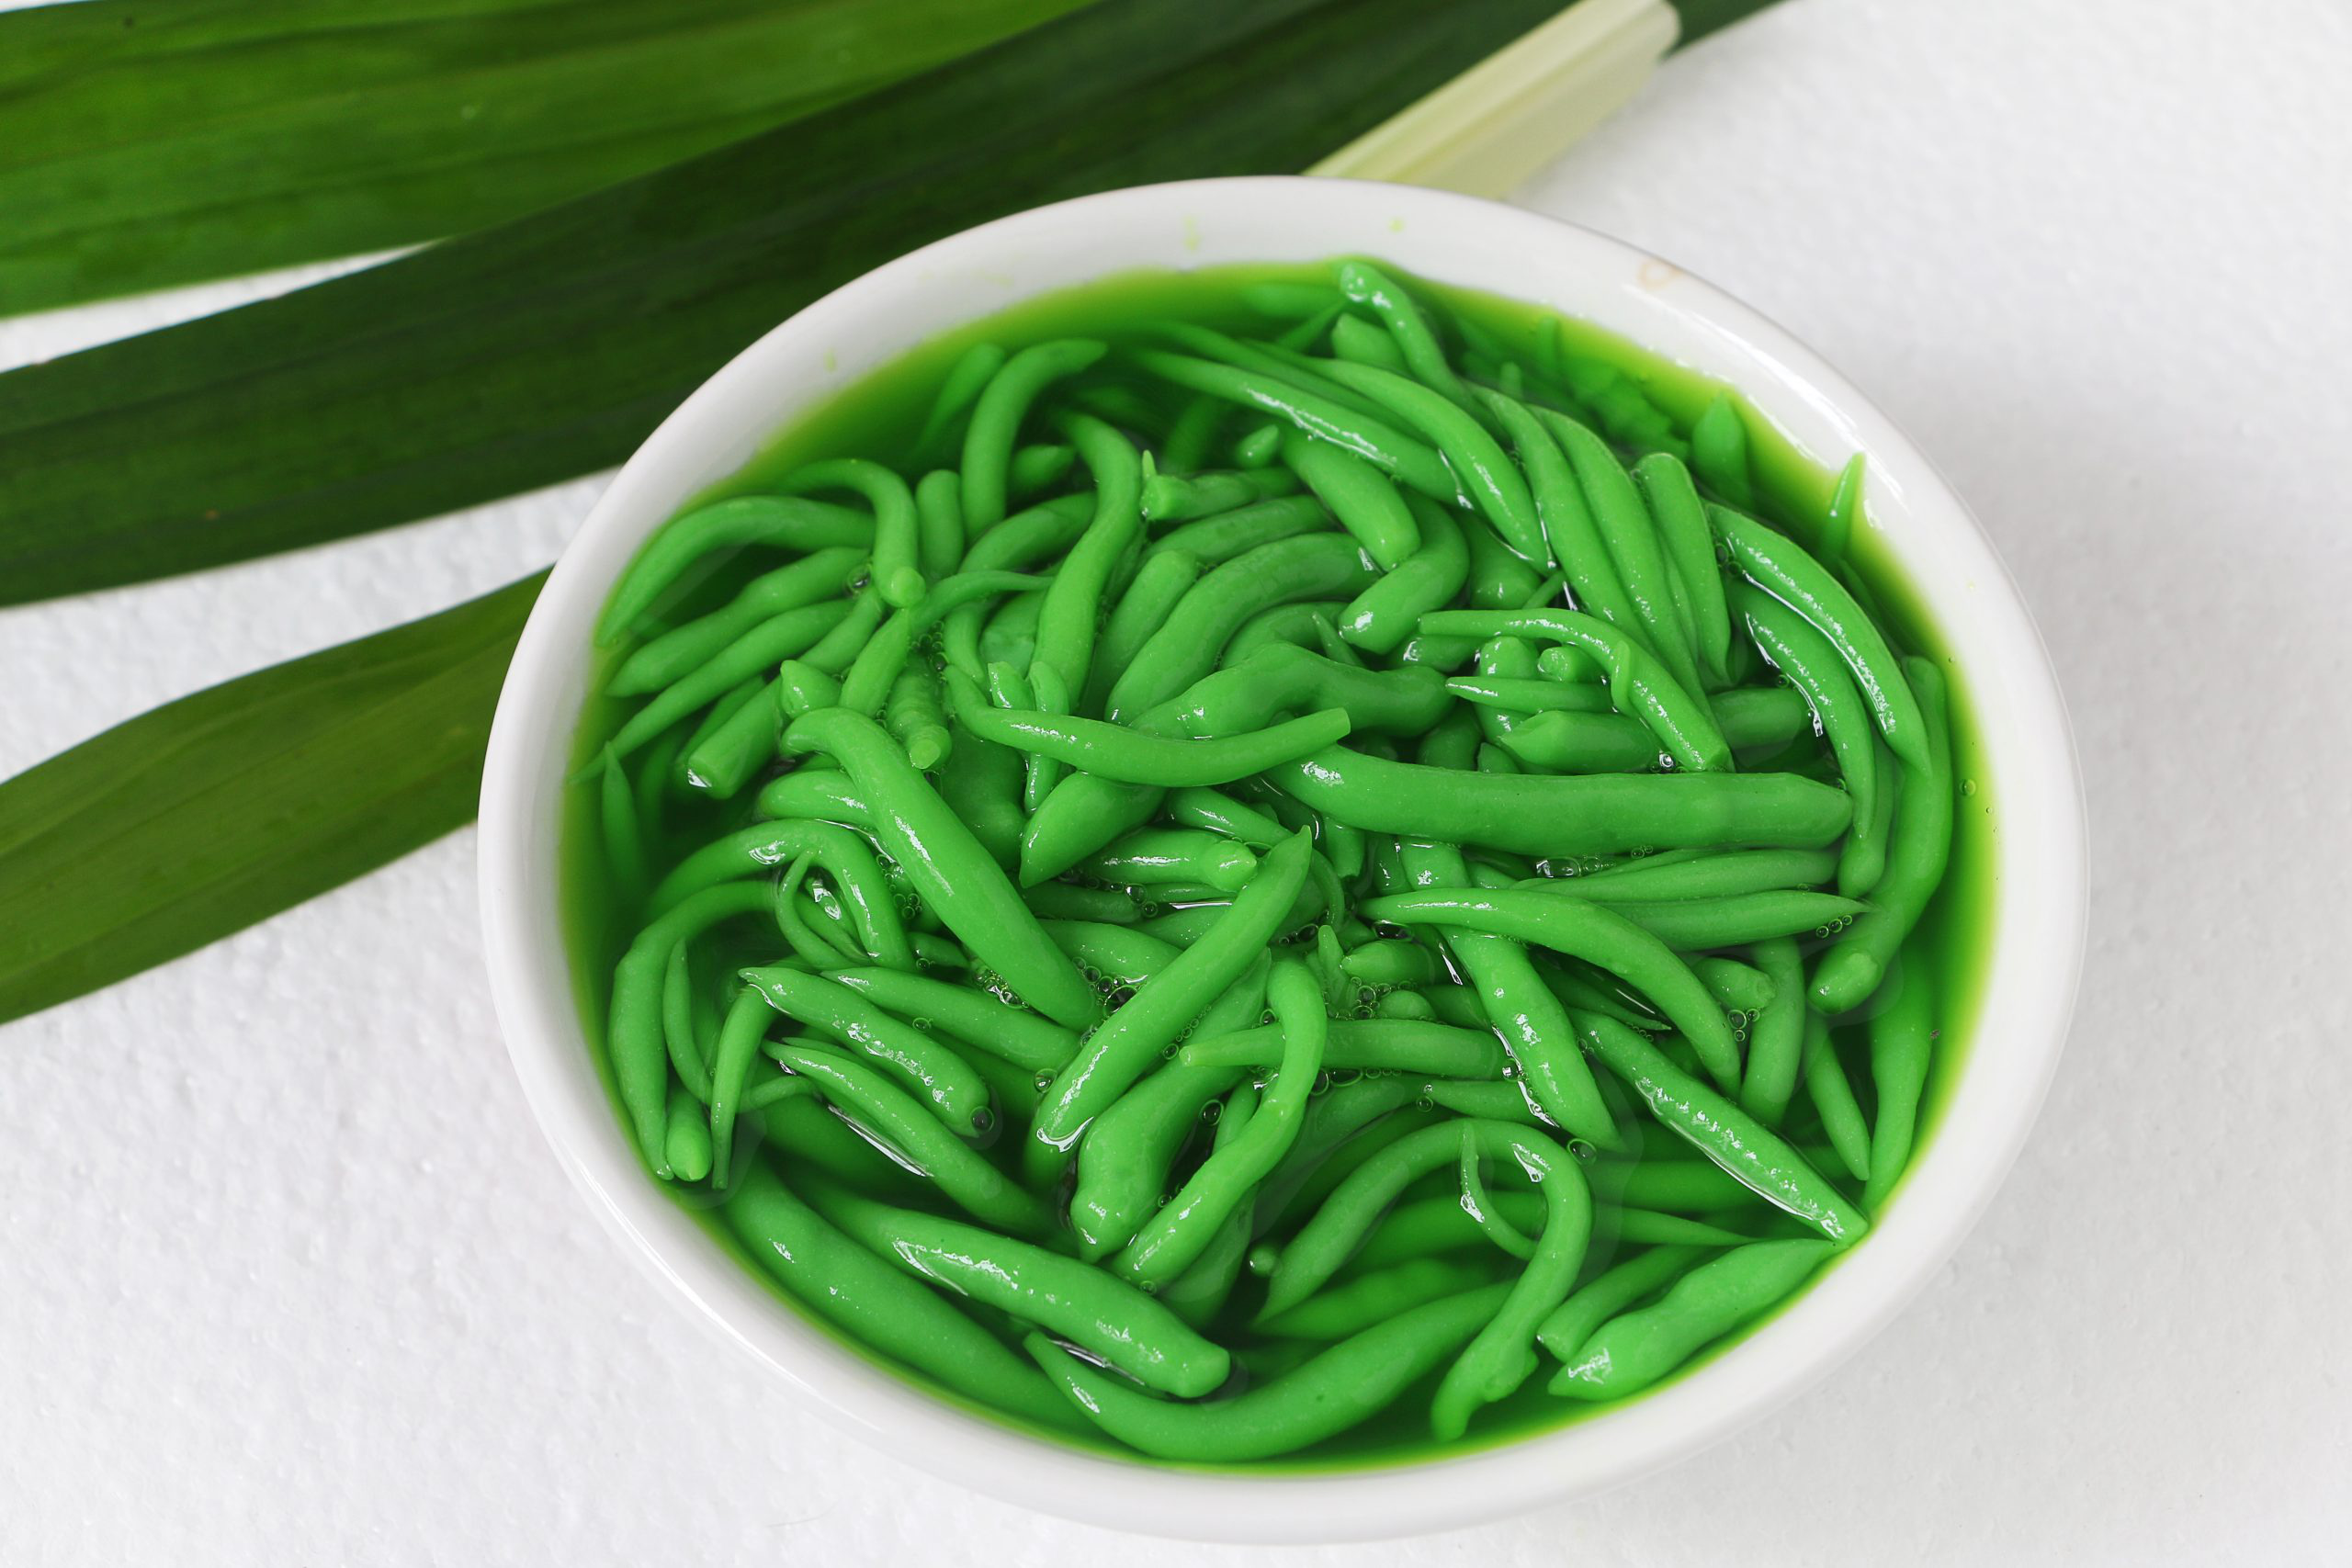Chendol: (584, 249, 1976, 1449)
